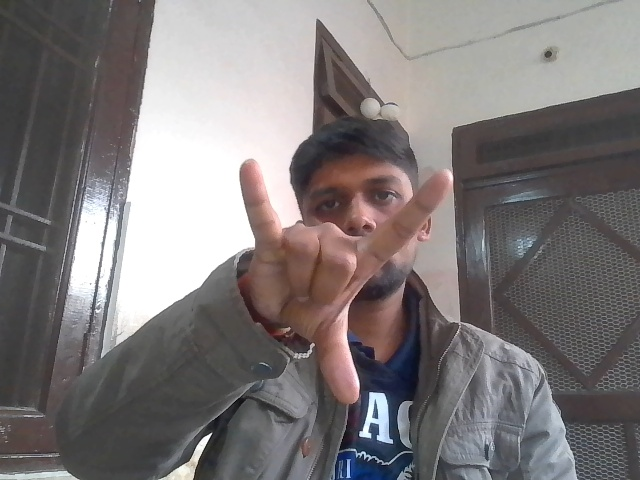ILoveYou: (215, 146, 467, 417)
